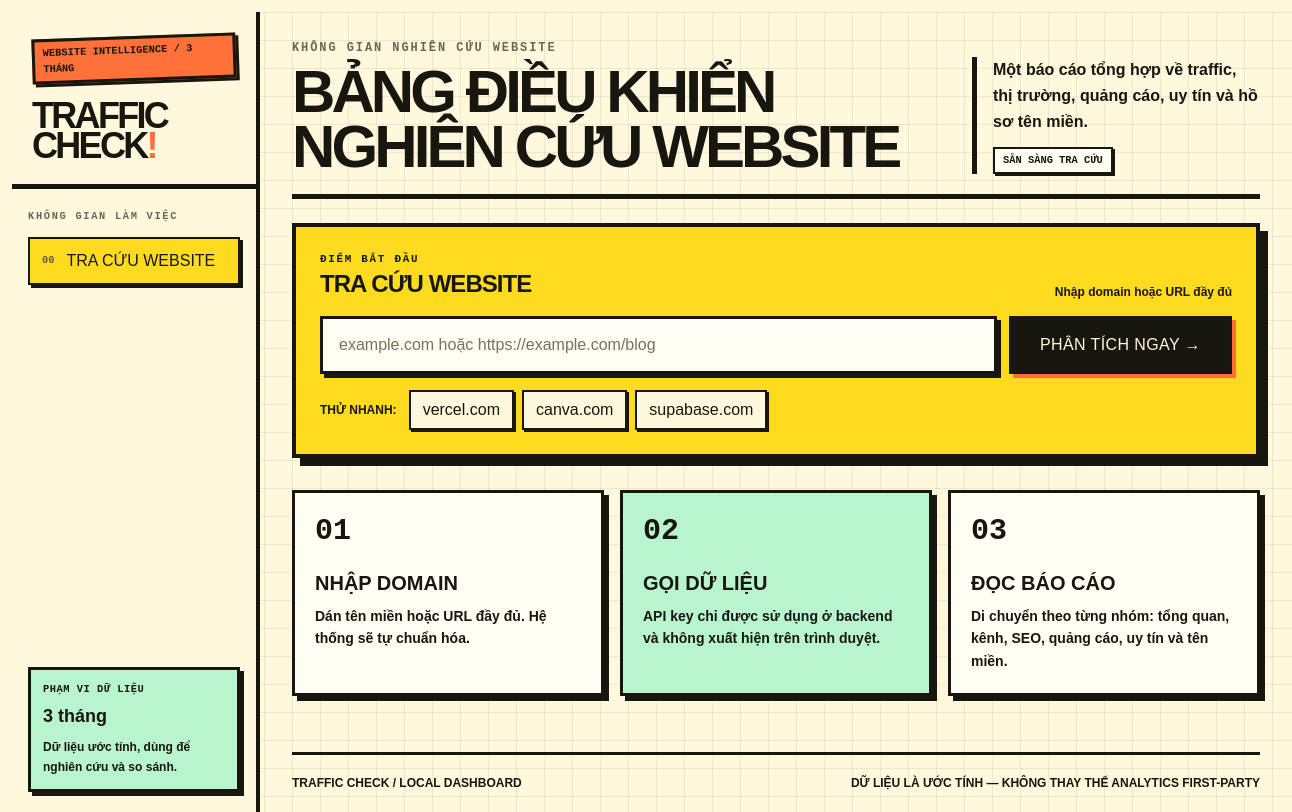
TrafficDashboard › hiển thị lỗi từ API
What coordinates should you click on to do the following:
click the button "vercel.com"
I would click on:
 (461, 410)
Its box is left=409, top=390, right=514, bottom=430.
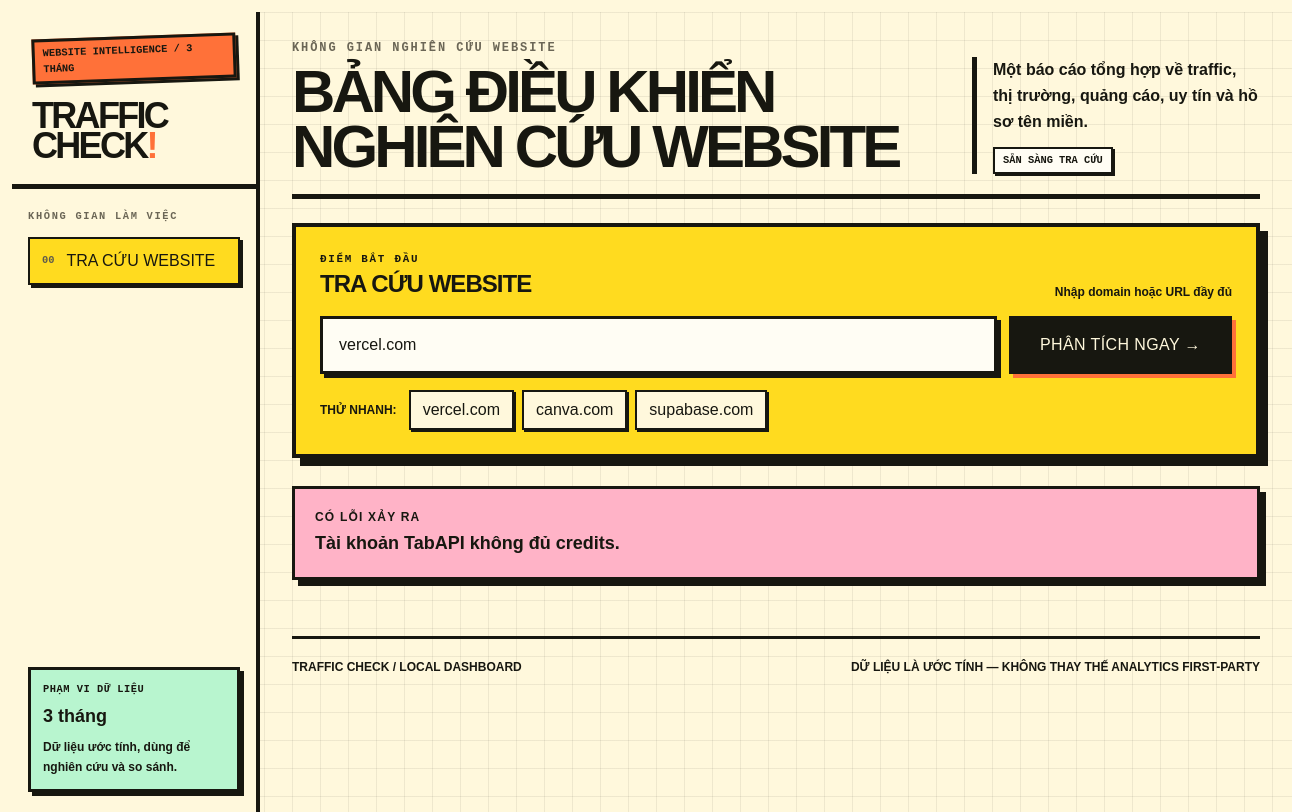
Result: the message shows "Tài khoản TabAPI không đủ credits." at left=315, top=533, right=620, bottom=553
